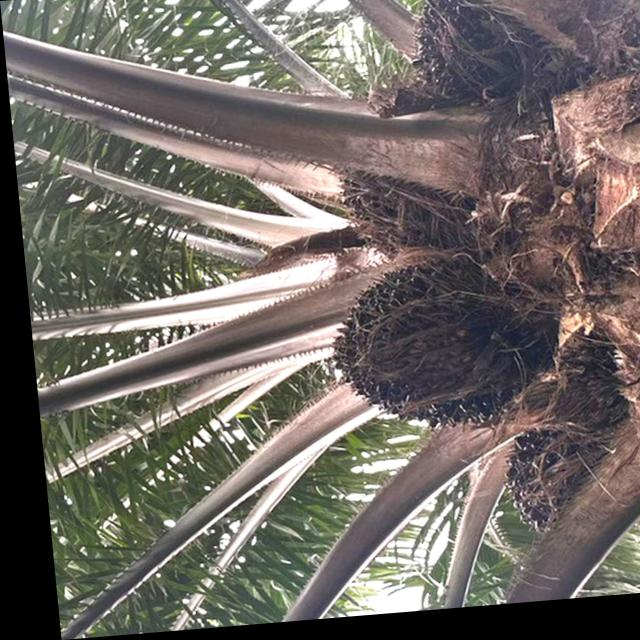unripe: (309, 251, 541, 447)
